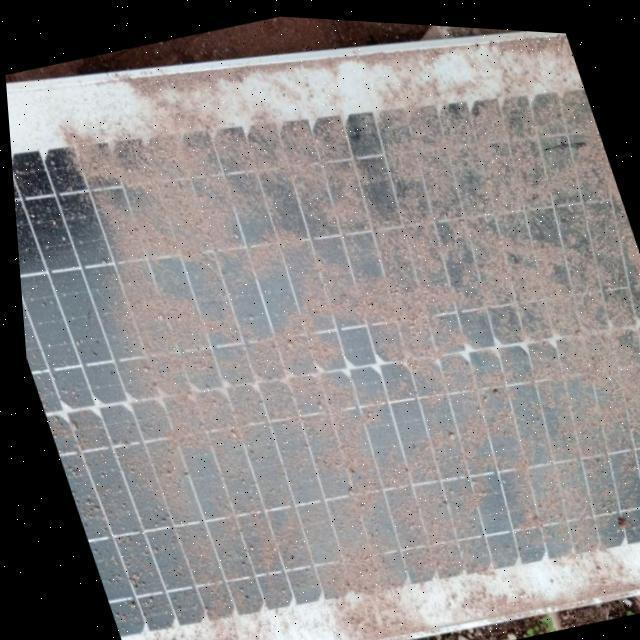Surface Contaminant: (61, 46, 640, 640)
